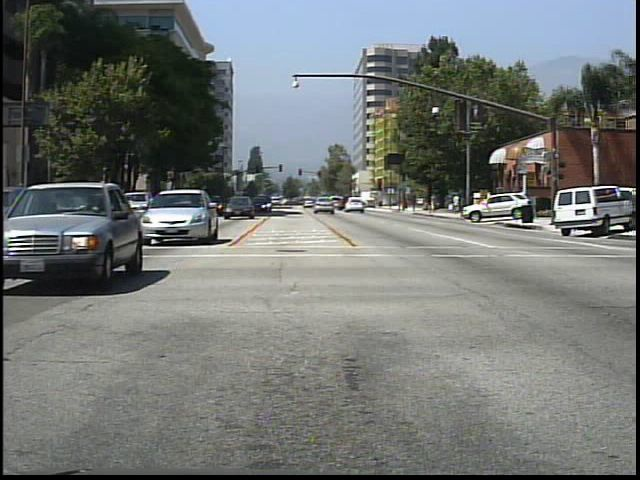person: (452, 190, 465, 219), (429, 192, 441, 215)
